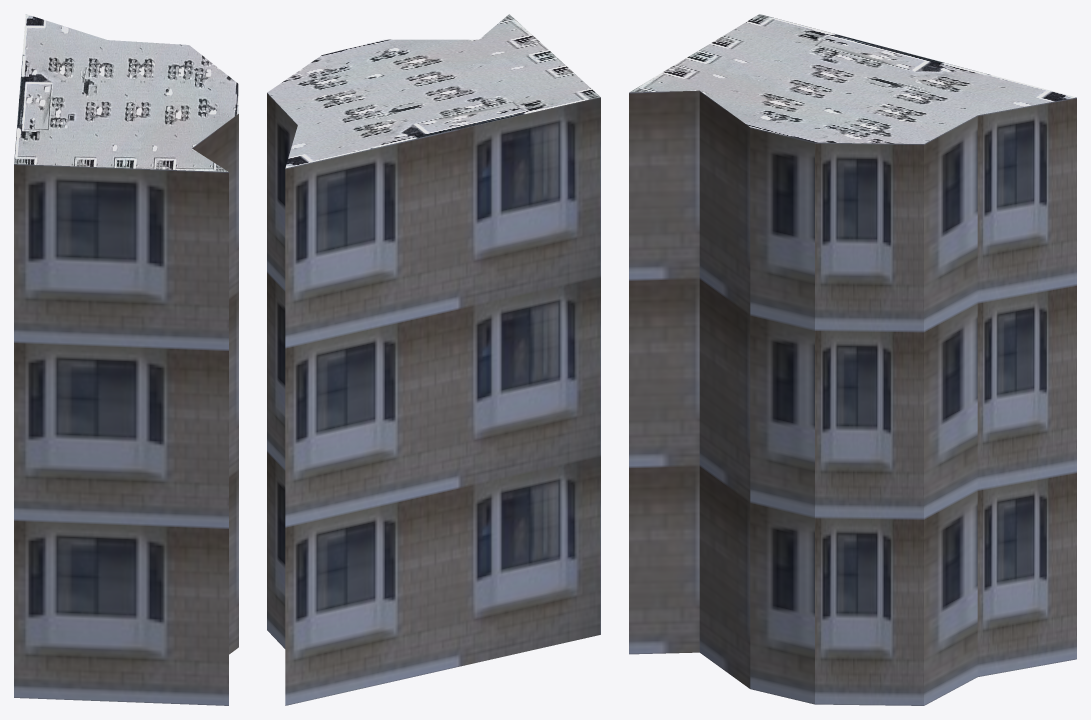
File: ResTex__3275.fbx
3 renders of one model, left to right at view 1: azimuth 30°, elevation 25°; view 2: azimuth 150°, elevation 25°; view 3: azimuth 270°, elevation 25°, orthographic. The views are drawn at different scales.
Visible parts, largest first — view 1: CityEngineMaterial_3_m, CityEngineMaterial_4_m; view 2: CityEngineMaterial_3_m, CityEngineMaterial_4_m; view 3: CityEngineMaterial_3_m, CityEngineMaterial_4_m.
Part boxes in pixels (x1,y1,x2,y2): CityEngineMaterial_3_m: (14,114,238,705); CityEngineMaterial_4_m: (14,14,238,171); CityEngineMaterial_3_m: (267,93,600,705); CityEngineMaterial_4_m: (267,14,600,168); CityEngineMaterial_3_m: (629,90,1076,705); CityEngineMaterial_4_m: (629,14,1076,143).
Size of the model in its own units: 4.47 by 9 by 6.5.
Materials: 2 (2 with a texture image).
